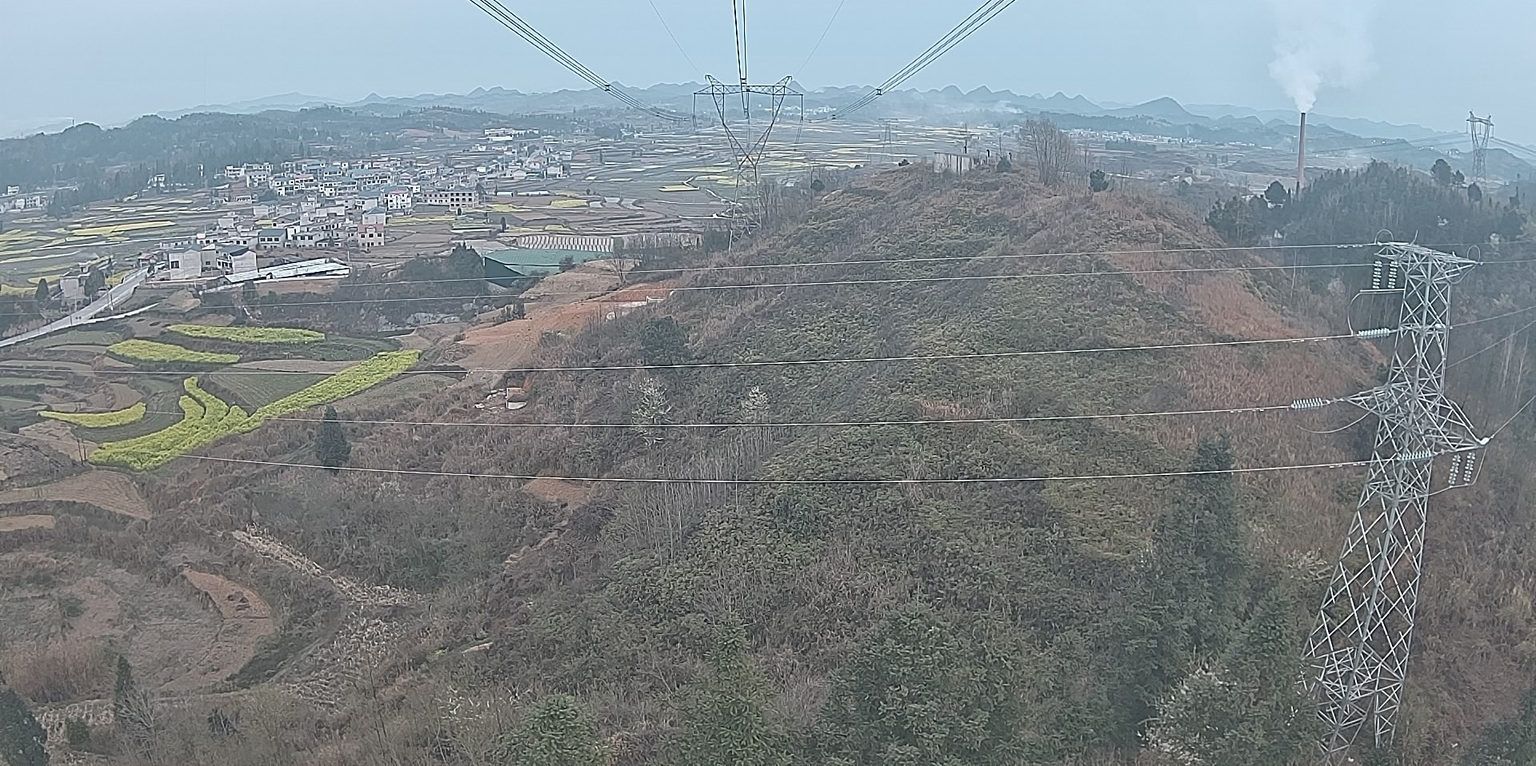工厂排烟: (1265, 0, 1378, 114)
